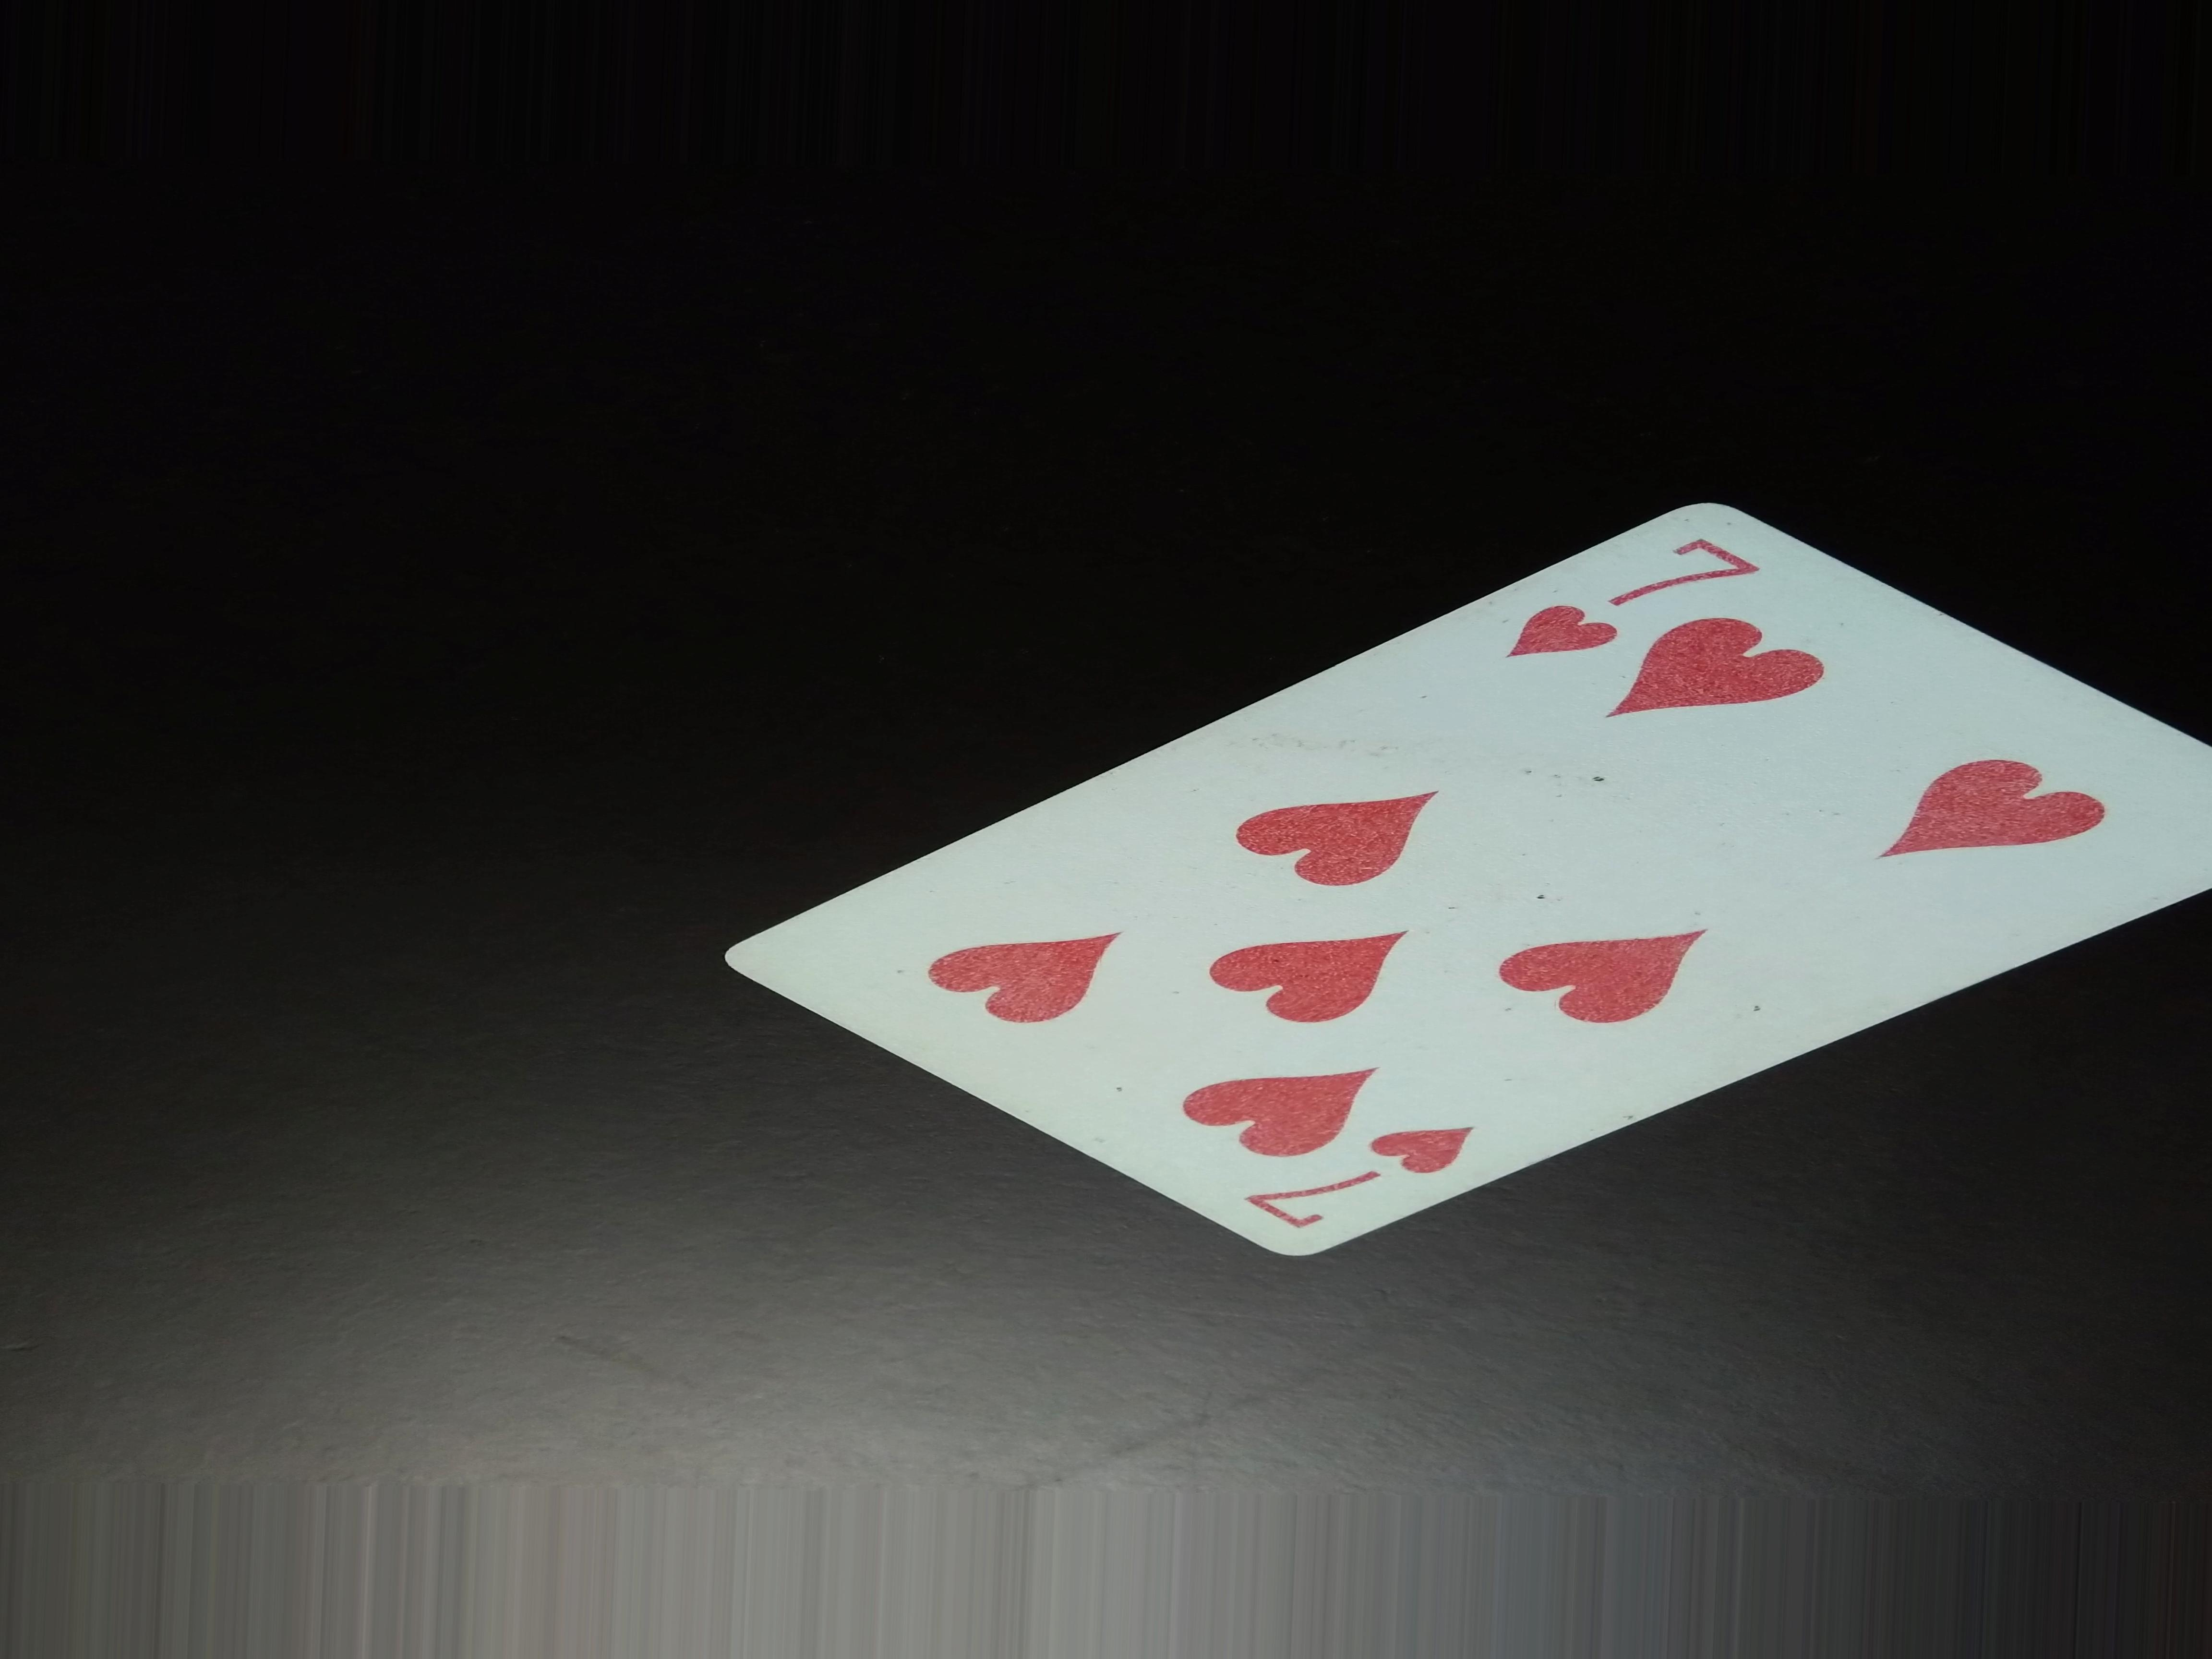7H: (1501, 509, 1752, 671)
